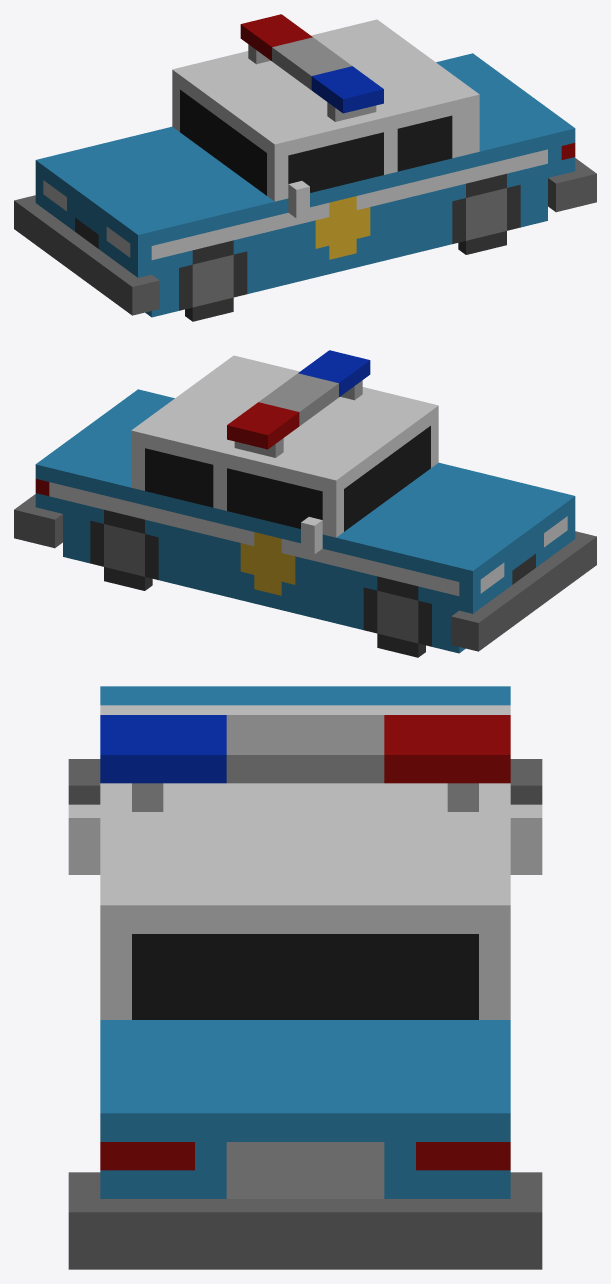
The model's file is cab.glb.
3 renders of one model, top to bottom at view 1: azimuth 30°, elevation 25°; view 2: azimuth 150°, elevation 25°; view 3: azimuth 270°, elevation 25°, orthographic. The views are drawn at different scales.
Parts seen in each view (by area): view 1: cars-0; view 2: cars-0; view 3: cars-0.
Boxes of the visible parts, <box> form: cars-0: <box>14,14,596,321</box>; cars-0: <box>14,350,596,657</box>; cars-0: <box>68,686,542,1269</box>.
Bounding box in the file's own units: 3.4 × 1.3 × 1.5.
